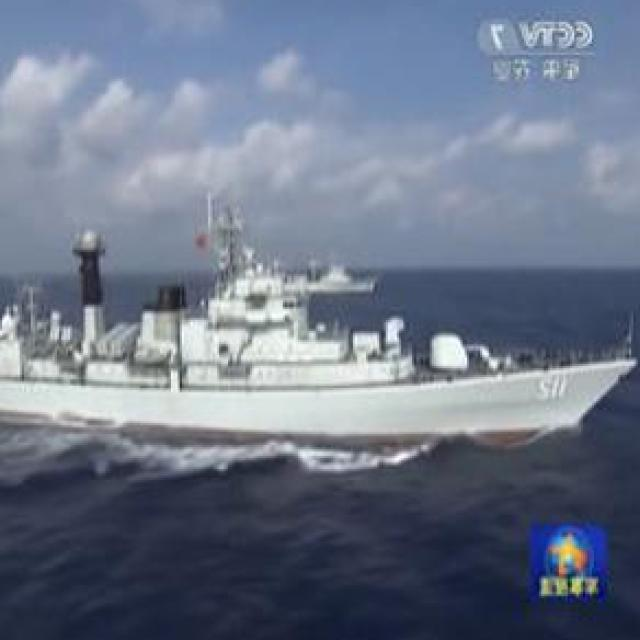navalvessels: (0, 193, 631, 458)
